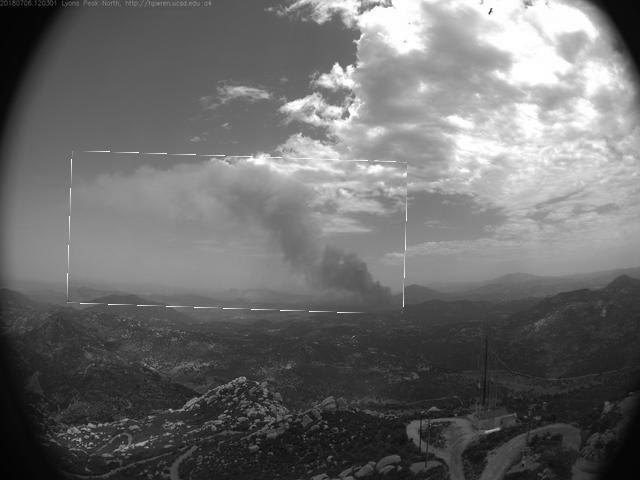smoke: (70, 155, 408, 313)
